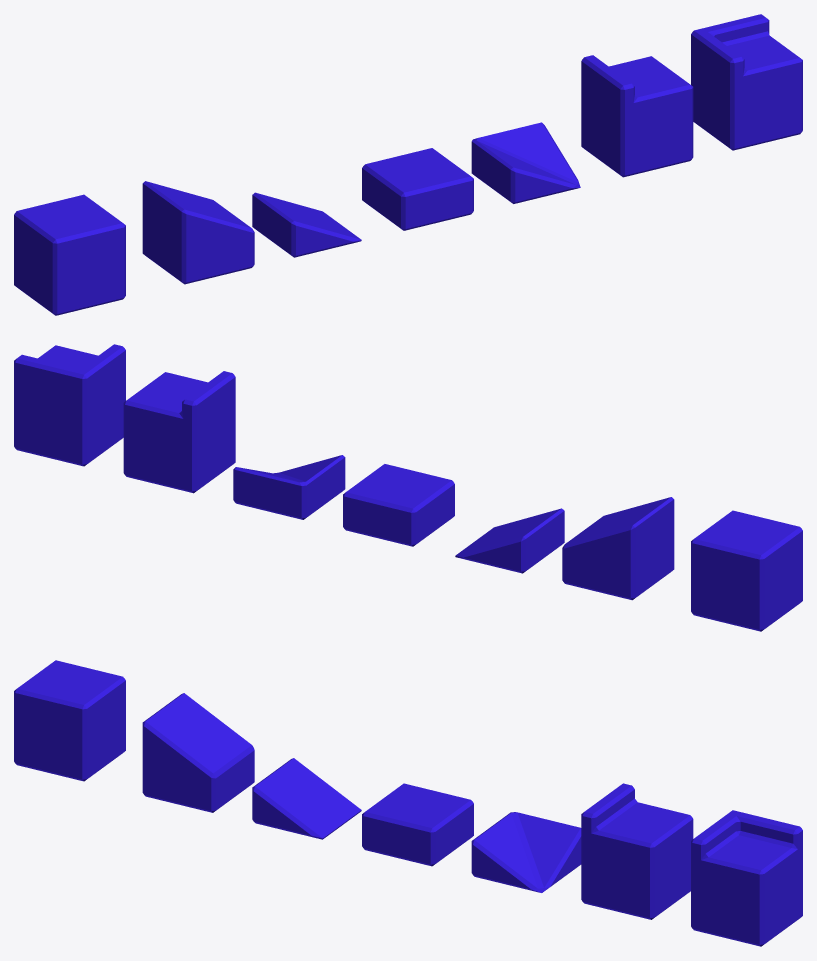
File: world_blocks_v1.glb
3 views of the same model, one above another, from view 1: azimuth 30°, elevation 25°; view 2: azimuth 150°, elevation 25°; view 3: azimuth 330°, elevation 25° (orthographic).
Parts seen in each view (by area): view 1: BlockWallCorner, BlockWall, Block, RampTop, BlockShort, RampLowerCorner, RampBottom; view 2: BlockWallCorner, BlockWall, Block, RampTop, BlockShort, RampLowerCorner, RampBottom; view 3: BlockWallCorner, BlockWall, Block, RampTop, BlockShort, RampLowerCorner, RampBottom.
Boxes of the visible parts, x1,y1,x2,y2 form: BlockWallCorner: (691,14,802,150); BlockWall: (581,55,693,177); Block: (14,194,125,315); RampTop: (142,181,254,284); BlockShort: (362,148,473,230); RampLowerCorner: (471,122,580,203); RampBottom: (252,192,361,257); BlockWallCorner: (14,344,125,466); BlockWall: (123,371,235,493); Block: (691,510,802,631); RampTop: (562,497,674,600); BlockShort: (343,464,454,546); RampLowerCorner: (233,455,345,519); RampBottom: (455,508,564,573); BlockWallCorner: (691,810,802,946); BlockWall: (581,783,693,919); Block: (14,660,125,781); RampTop: (142,693,254,812); BlockShort: (362,783,473,866); RampLowerCorner: (471,812,581,892); RampBottom: (252,758,361,839).
Size of what is drawn, in the model's own units: 20.52 by 2.4 by 2.
